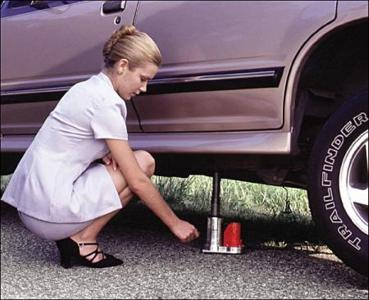person: (3, 24, 202, 270)
